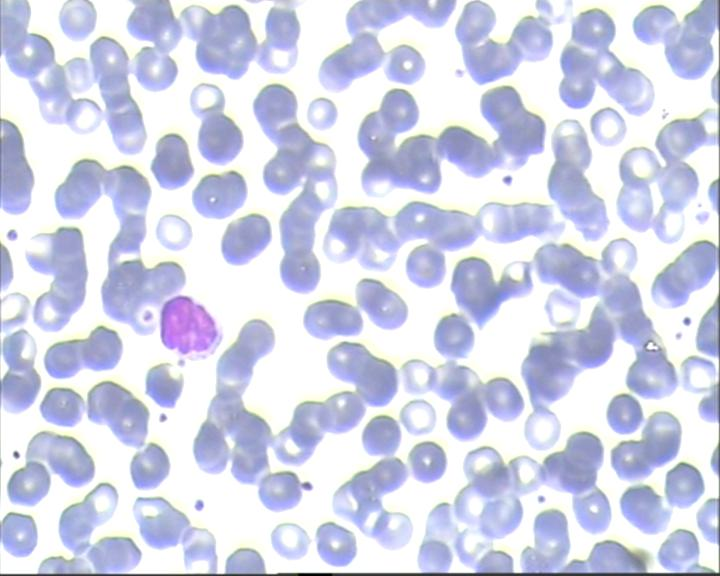lymp: (155, 293, 225, 366)
